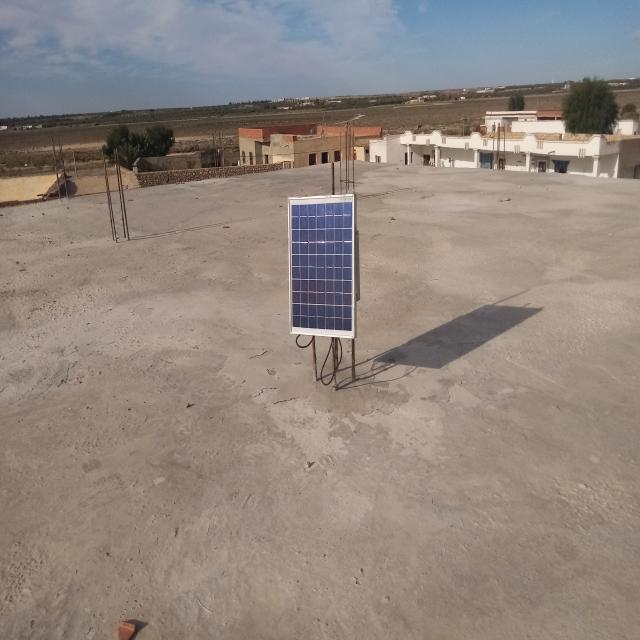no faulty: (288, 195, 354, 338)
